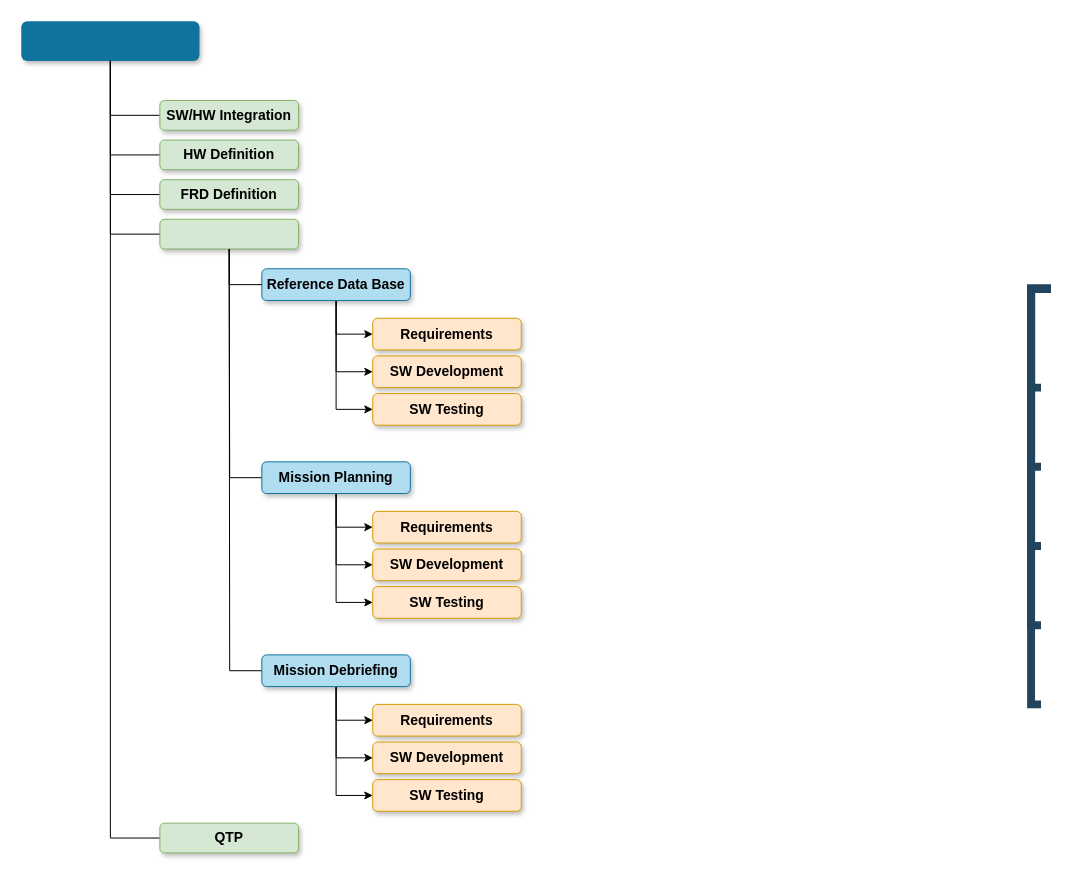
Image size: 1072x877. Some labels were removed from this diagram. Here are the shapes that lost their labels. From the top down, the centre of each, then its label:
point 111,42: SIRTAP SW
point 229,235: SW
